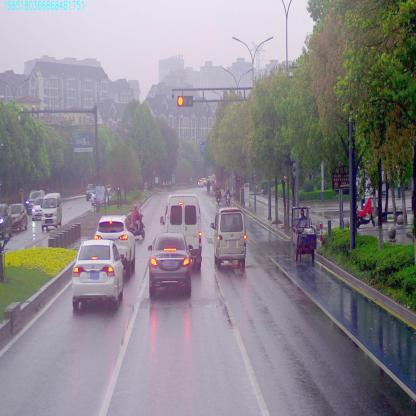traffic-light: (178, 96, 192, 107)
